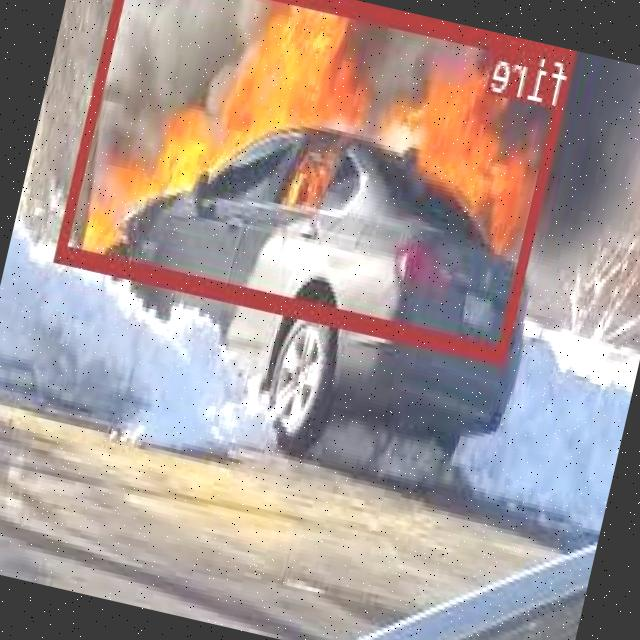fire: (57, 0, 577, 359)
